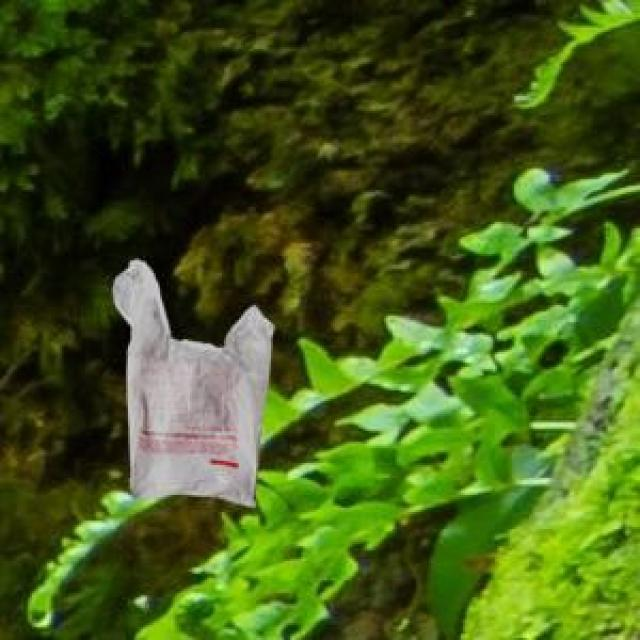waste: (112, 261, 274, 506)
